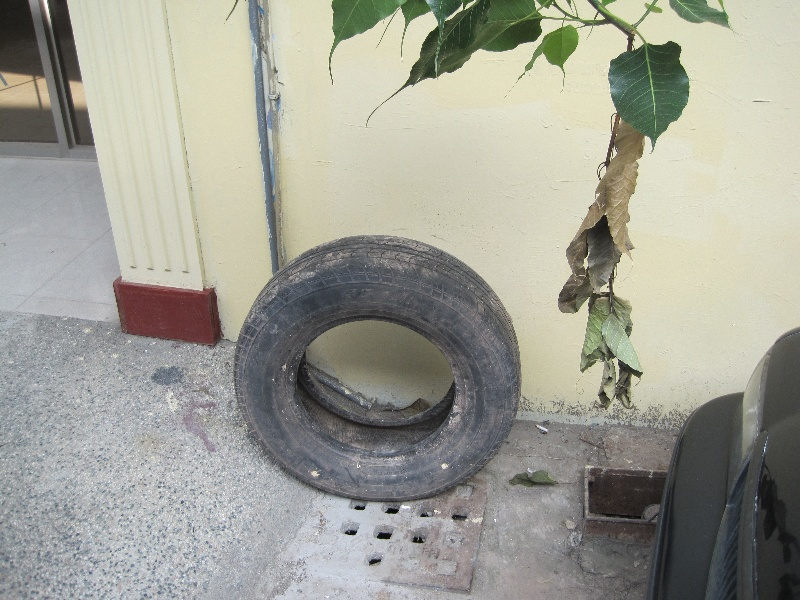tire: (233, 234, 522, 501)
